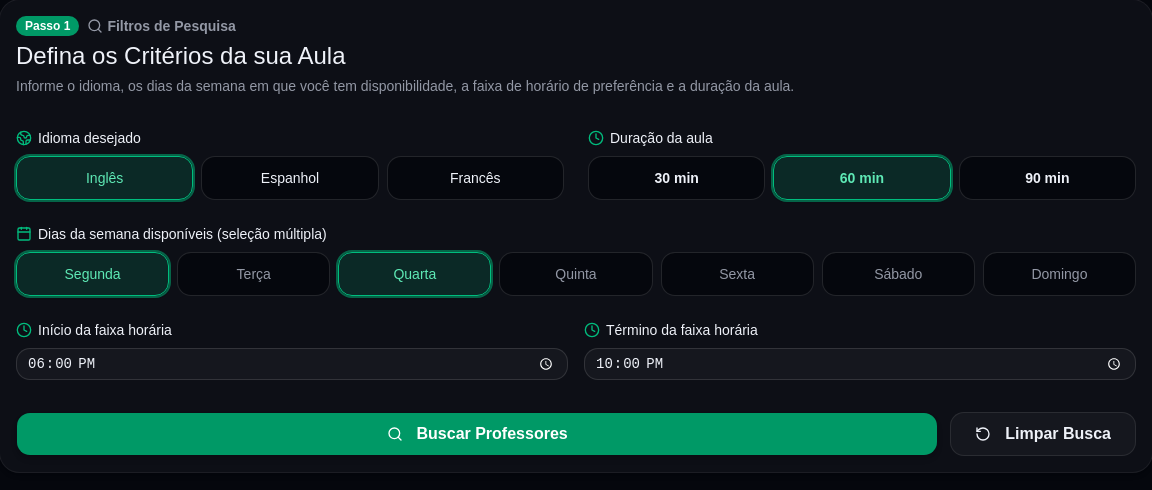
Scenario: Funcionalidade Limpar Busca e Catálogo Geral › renderiza o botão Limpar Busca no formulário e redefine os campos ao ser clicado
This screenshot has width=1152, height=490.
Expected: the time field labelled "Início da faixa horária" holds "18:00", [16,348,568,380]
Expected: the time field labelled "Término da faixa horária" holds "22:00", [584,348,1136,380]
Click the button "Limpar Busca" at coordinates (1043, 434), box [950,412,1136,456]
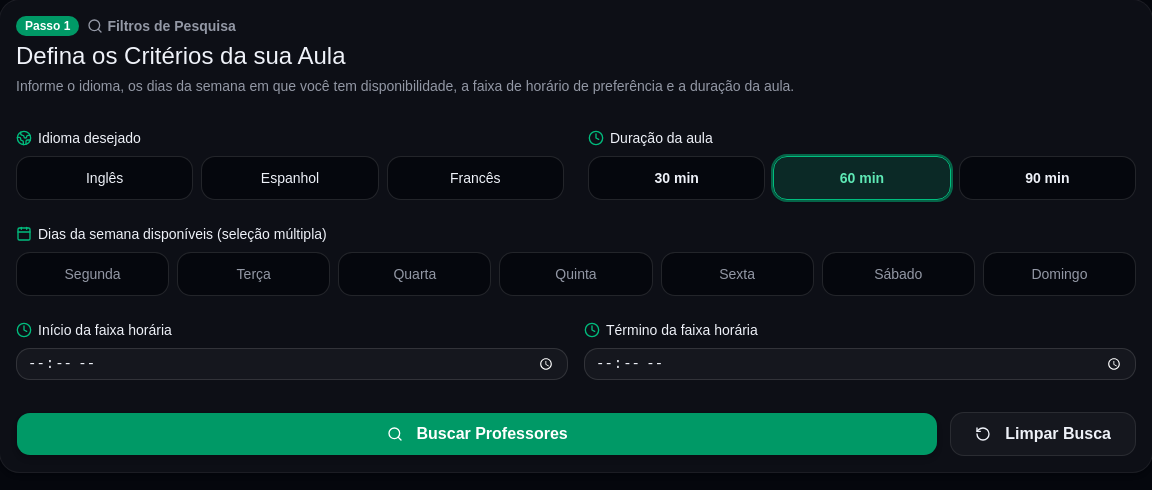
Expected: the time field labelled "Início da faixa horária" is empty, [16,348,568,380]
Expected: the time field labelled "Término da faixa horária" is empty, [584,348,1136,380]
